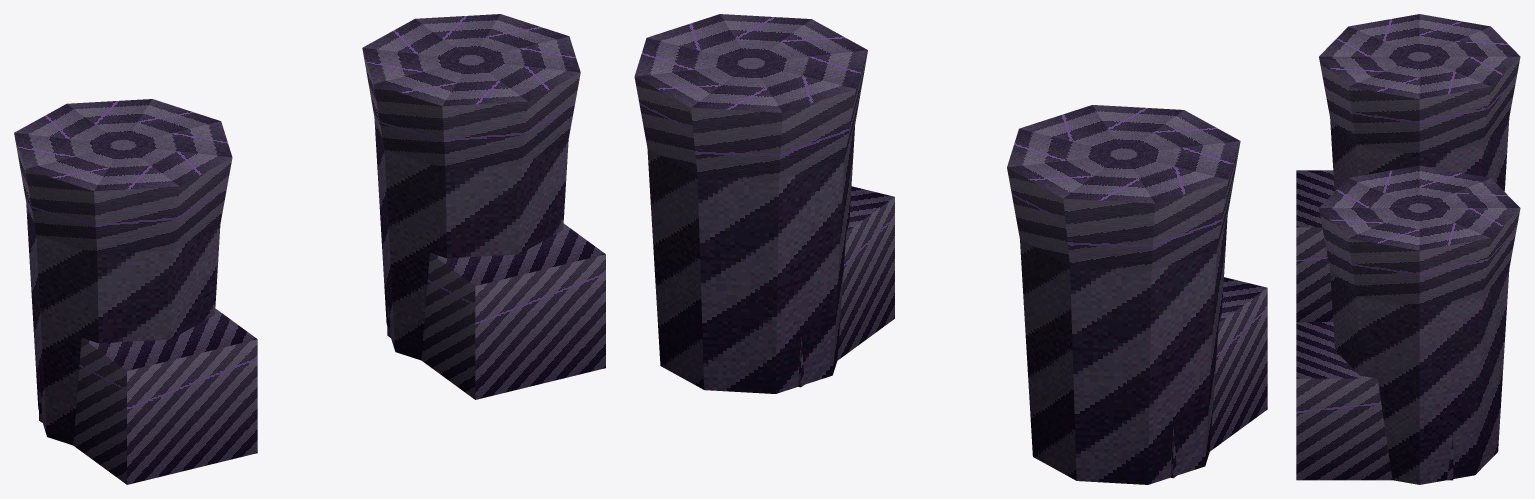
File: luvas_de_obsidiana.glb
3 renders of one model, left to right at view 1: azimuth 30°, elevation 25°; view 2: azimuth 150°, elevation 25°; view 3: azimuth 270°, elevation 25°, orthographic. The views are drawn at different scales.
Visible parts, largest first — view 1: luvas_de_obsidiana; view 2: luvas_de_obsidiana; view 3: luvas_de_obsidiana.
Boxes of the visible parts, x1,y1,x2,y2 form: luvas_de_obsidiana: (14,14,605,484); luvas_de_obsidiana: (634,14,1267,484); luvas_de_obsidiana: (1296,14,1520,484).
Size of the model in its own units: 0.5 by 0.24 by 0.2.
Materials: 1 (1 with a texture image).
